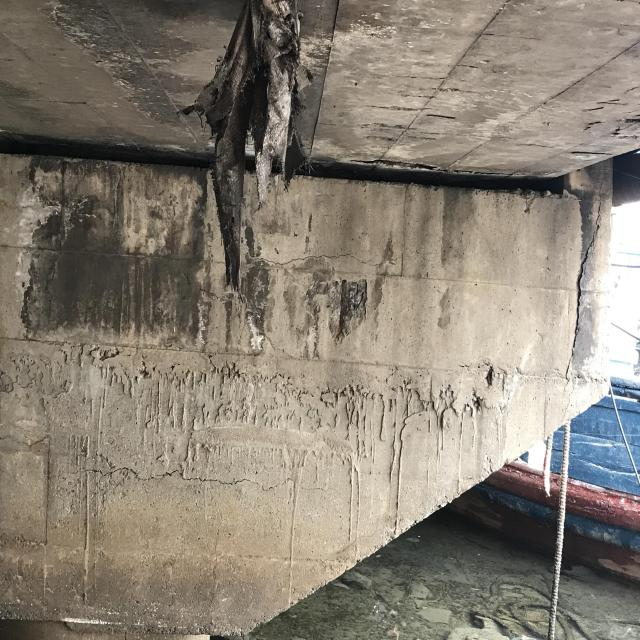Rebar: (318, 277, 369, 346)
horizontal crack: (57, 457, 330, 495), (349, 156, 516, 178), (250, 250, 402, 274)
vertical crack: (562, 203, 602, 380)
